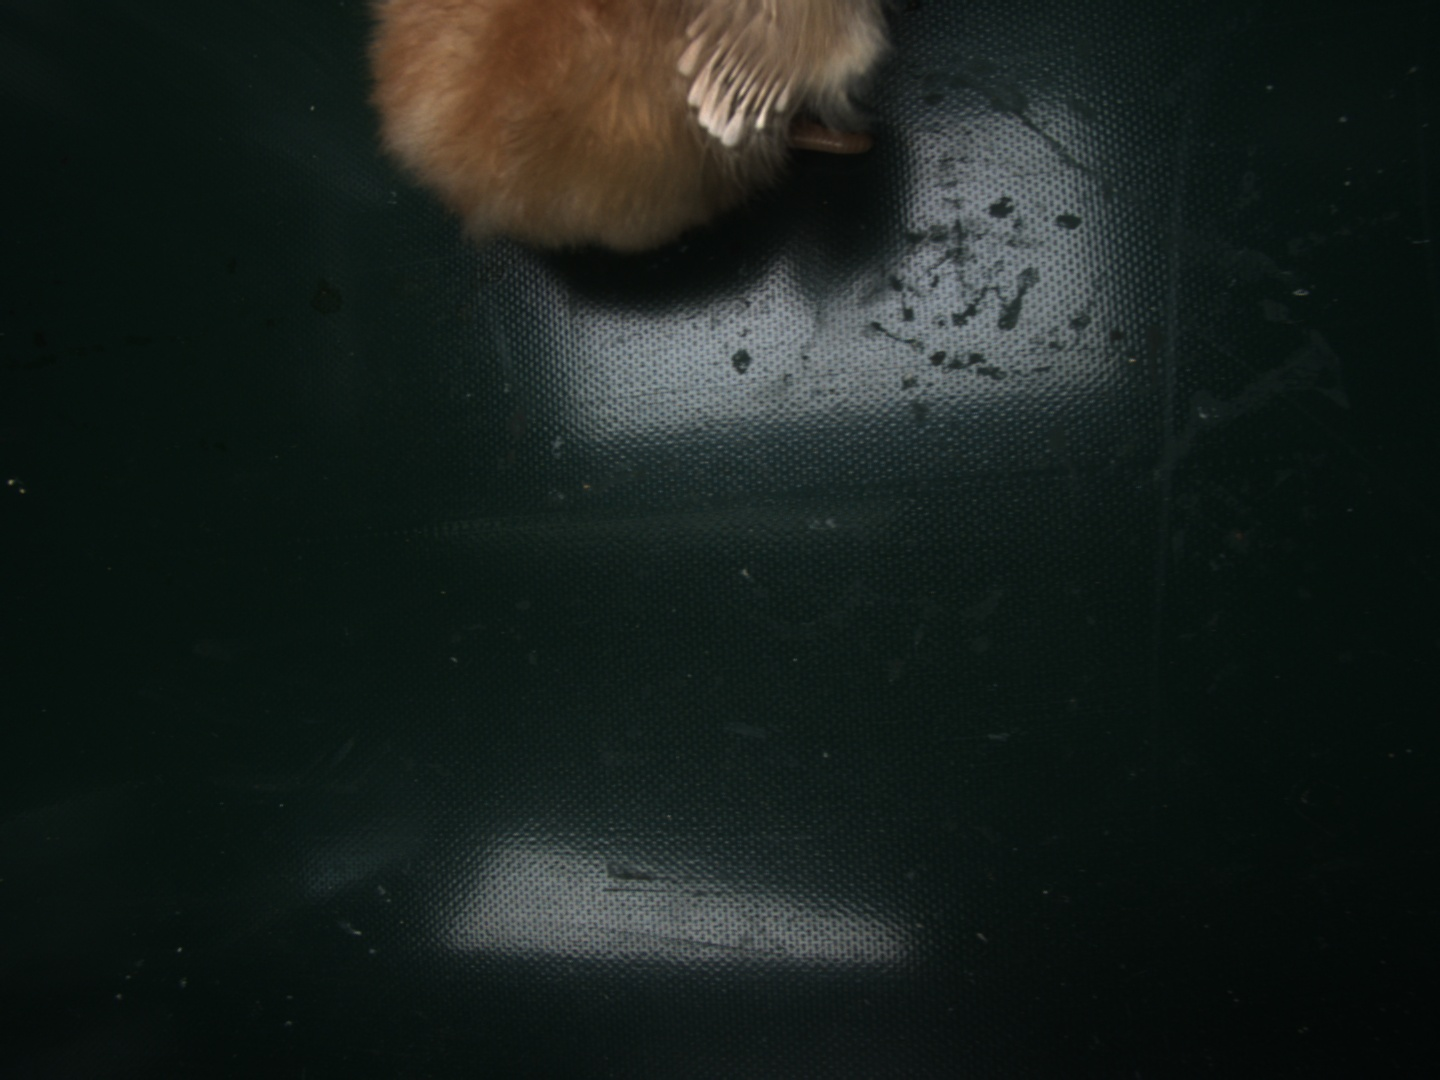female: (684, 8, 794, 149)
